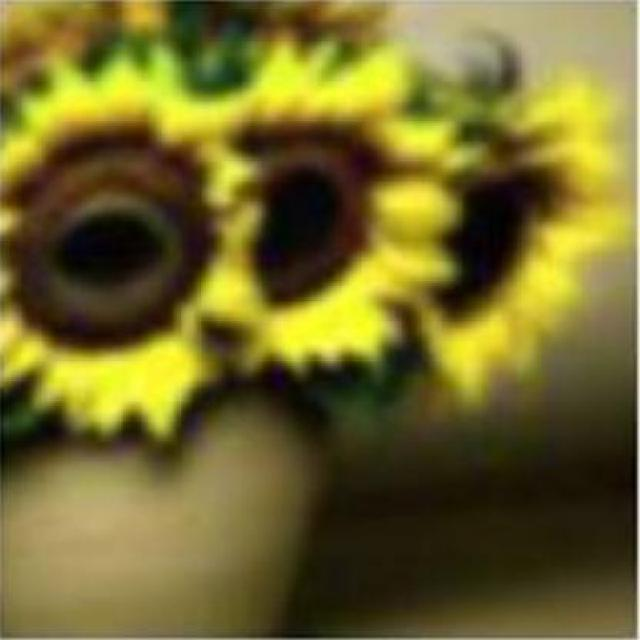sunflower: (0, 62, 236, 431), (222, 46, 459, 393), (409, 62, 640, 401)
